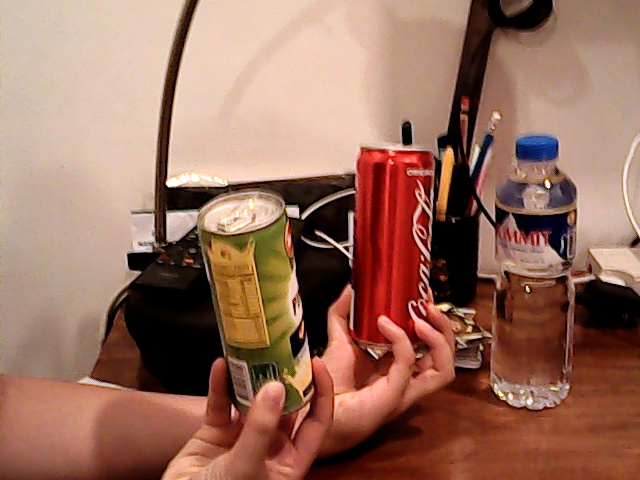Cola: (338, 136, 450, 359)
Pine Juice: (194, 180, 323, 411)
Summit Water: (478, 123, 587, 424)
